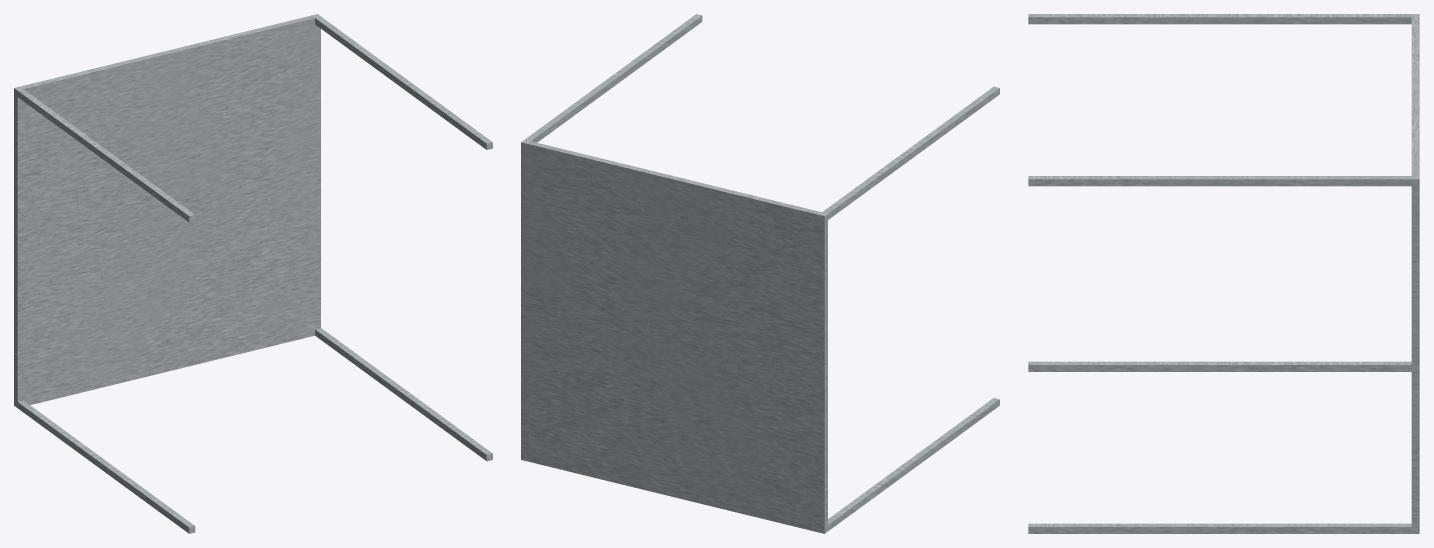
The model's file is Duct_NESW_1m.gltf.
3 renders of one model, left to right at view 1: azimuth 30°, elevation 25°; view 2: azimuth 150°, elevation 25°; view 3: azimuth 270°, elevation 25°, orthographic. The views are drawn at different scales.
Parts seen in each view (by area): view 1: root; view 2: root; view 3: root.
Boxes of the visible parts, bbox=[...] form: root: bbox=[14, 14, 492, 533]; root: bbox=[521, 14, 999, 533]; root: bbox=[1028, 14, 1419, 533].
Size of the model in its own units: 1 by 1 by 1.
Materials: 1 (1 with a texture image).
